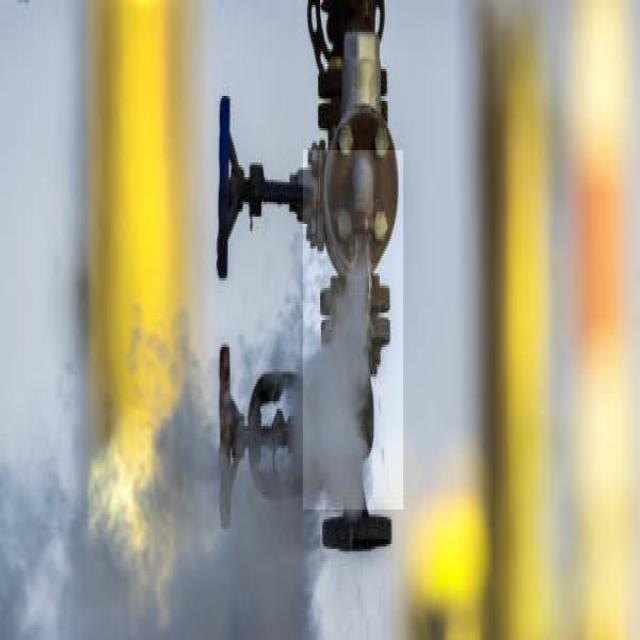corrosion: (303, 150, 403, 510)
